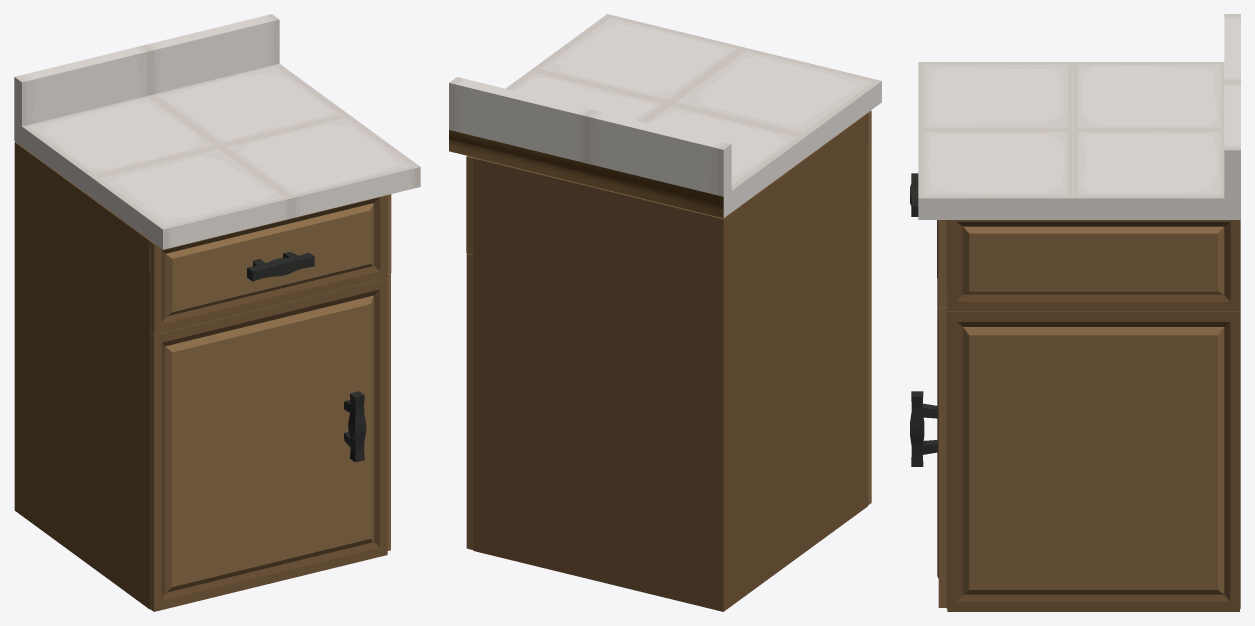
The model's file is SM_Prop_KitchenTabletop_02.obj.
3 views of the same model, side by side, from view 1: azimuth 30°, elevation 25°; view 2: azimuth 150°, elevation 25°; view 3: azimuth 270°, elevation 25° (orthographic). The views are drawn at different scales.
Visible parts, largest first — view 1: SM_Prop_KitchenTabletop_02_Mat_SwatchOverlay_Farm_01_Wood_Inst, SM_Prop_KitchenTabletop_02_Mat_SwatchOverlay_Farm_Main_01_Inst, SM_Prop_KitchenTabletop_02_Mat_SwatchOverlay_Farm_01_Inst; view 2: SM_Prop_KitchenTabletop_02_Mat_SwatchOverlay_Farm_01_Wood_Inst, SM_Prop_KitchenTabletop_02_Mat_SwatchOverlay_Farm_Main_01_Inst; view 3: SM_Prop_KitchenTabletop_02_Mat_SwatchOverlay_Farm_01_Wood_Inst, SM_Prop_KitchenTabletop_02_Mat_SwatchOverlay_Farm_Main_01_Inst, SM_Prop_KitchenTabletop_02_Mat_SwatchOverlay_Farm_01_Inst.
Part boxes in pixels (bbox=[...]): SM_Prop_KitchenTabletop_02_Mat_SwatchOverlay_Farm_01_Wood_Inst: bbox=[14, 142, 391, 611]; SM_Prop_KitchenTabletop_02_Mat_SwatchOverlay_Farm_Main_01_Inst: bbox=[14, 14, 420, 249]; SM_Prop_KitchenTabletop_02_Mat_SwatchOverlay_Farm_01_Inst: bbox=[247, 251, 366, 462]; SM_Prop_KitchenTabletop_02_Mat_SwatchOverlay_Farm_01_Wood_Inst: bbox=[466, 110, 871, 611]; SM_Prop_KitchenTabletop_02_Mat_SwatchOverlay_Farm_Main_01_Inst: bbox=[449, 14, 881, 218]; SM_Prop_KitchenTabletop_02_Mat_SwatchOverlay_Farm_01_Wood_Inst: bbox=[937, 220, 1240, 611]; SM_Prop_KitchenTabletop_02_Mat_SwatchOverlay_Farm_Main_01_Inst: bbox=[918, 14, 1240, 219]; SM_Prop_KitchenTabletop_02_Mat_SwatchOverlay_Farm_01_Inst: bbox=[910, 173, 937, 466].
Bounding box in the file's own units: 0.6112 × 0.983 × 0.6262.
Materials: 3 (3 with a texture image).
